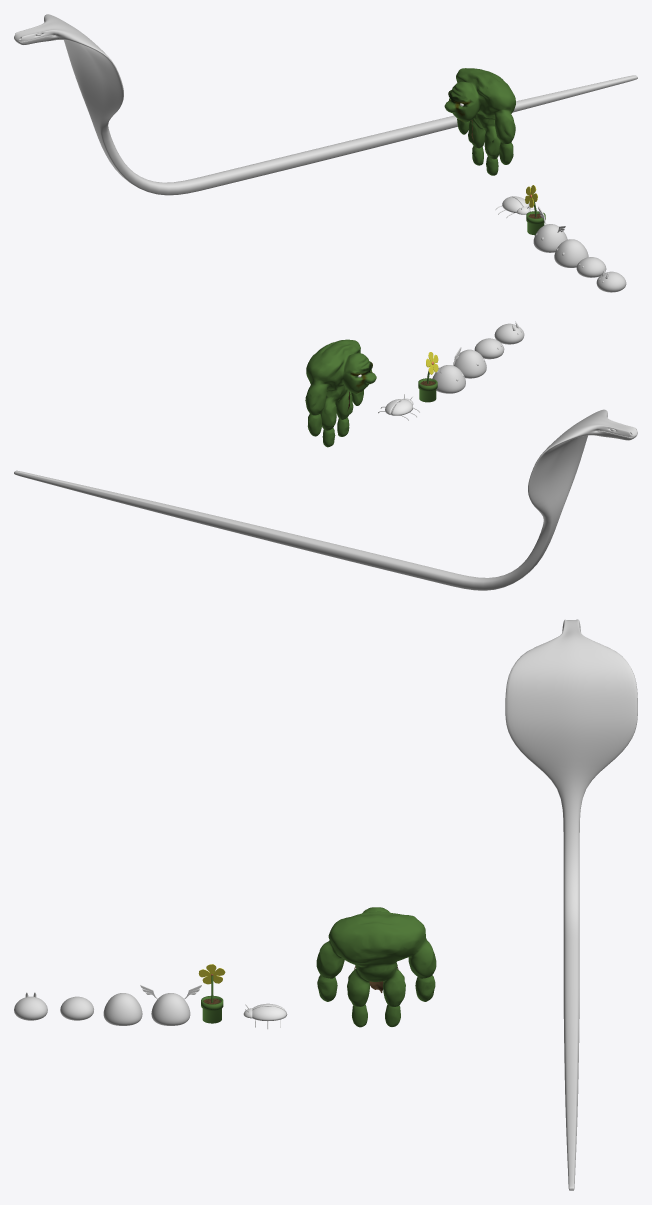
The model's file is Mobs_new.fbx.
The picture shows the model from 3 angles, top to bottom: view 1: azimuth 30°, elevation 25°; view 2: azimuth 150°, elevation 25°; view 3: azimuth 270°, elevation 25°; orthographic projection. The views are drawn at different scales.
Parts seen in each view (by area): view 1: Cube, Mob1, Sphere.001, Sphere, Cylinder.001, Cube.001, Sphere.003, Cylinder; view 2: Cube, Mob1, Sphere.001, Sphere, Cylinder.001, Cube.001, Sphere.003, Cylinder; view 3: Cube, Mob1, Sphere.001, Sphere, Cylinder.001.
Boxes of the visible parts, <box> form: Cube: <box>14,14,637,195</box>; Mob1: <box>444,68,515,175</box>; Sphere.001: <box>533,206,567,252</box>; Sphere: <box>554,239,588,267</box>; Cylinder.001: <box>525,185,545,235</box>; Cube.001: <box>596,269,626,292</box>; Sphere.003: <box>576,257,606,277</box>; Cylinder: <box>495,196,537,218</box>; Cube: <box>14,409,637,590</box>; Mob1: <box>305,339,376,447</box>; Sphere.001: <box>432,347,465,393</box>; Sphere: <box>453,349,486,378</box>; Cylinder.001: <box>418,352,438,402</box>; Cube.001: <box>494,321,524,344</box>; Sphere.003: <box>474,338,504,359</box>; Cylinder: <box>378,394,419,420</box>; Cube: <box>505,619,637,1190</box>; Mob1: <box>316,907,436,1027</box>; Sphere.001: <box>140,985,201,1025</box>; Sphere: <box>103,993,142,1025</box>; Cylinder.001: <box>198,964,225,1023</box>.
Size of the model in its own units: 5968 by 1831 by 4501.
